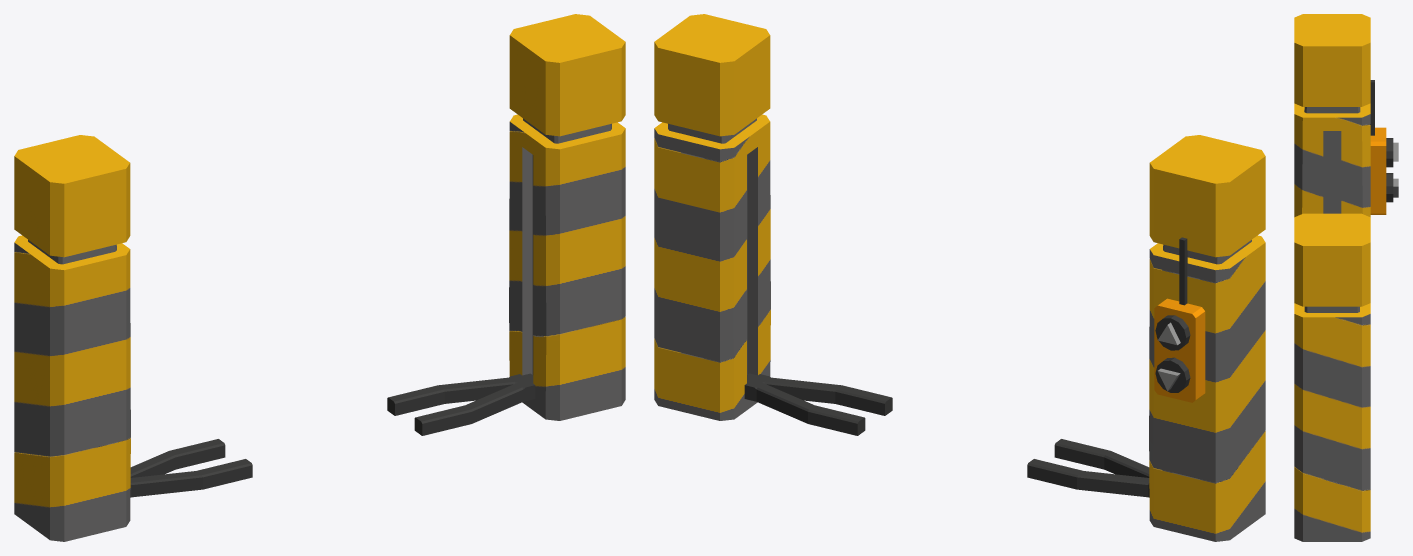
The model's file is Lift_v2.fbx.
The picture shows the model from 3 angles, left to right: view 1: azimuth 30°, elevation 25°; view 2: azimuth 150°, elevation 25°; view 3: azimuth 270°, elevation 25°; orthographic projection. The views are drawn at different scales.
Parts seen in each view (by area): view 1: Lift, Lift_Left, Lift_Right; view 2: Lift, Lift_Left, Lift_Right; view 3: Lift.
Part boxes in pixels (bbox=[...]): Lift: bbox=[14, 14, 625, 541]; Lift_Left: bbox=[387, 373, 535, 435]; Lift_Right: bbox=[130, 439, 252, 497]; Lift: bbox=[654, 14, 1265, 541]; Lift_Left: bbox=[744, 373, 892, 435]; Lift_Right: bbox=[1027, 439, 1149, 497]; Lift: bbox=[1294, 14, 1398, 541].
Bounding box in the file's own units: 8.1 × 4.82 × 1.54.
